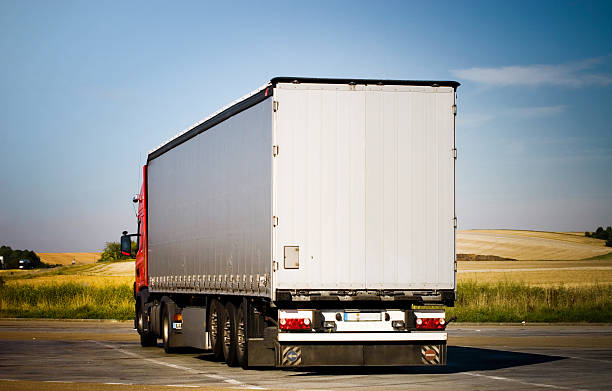Semi: (120, 76, 461, 368)
